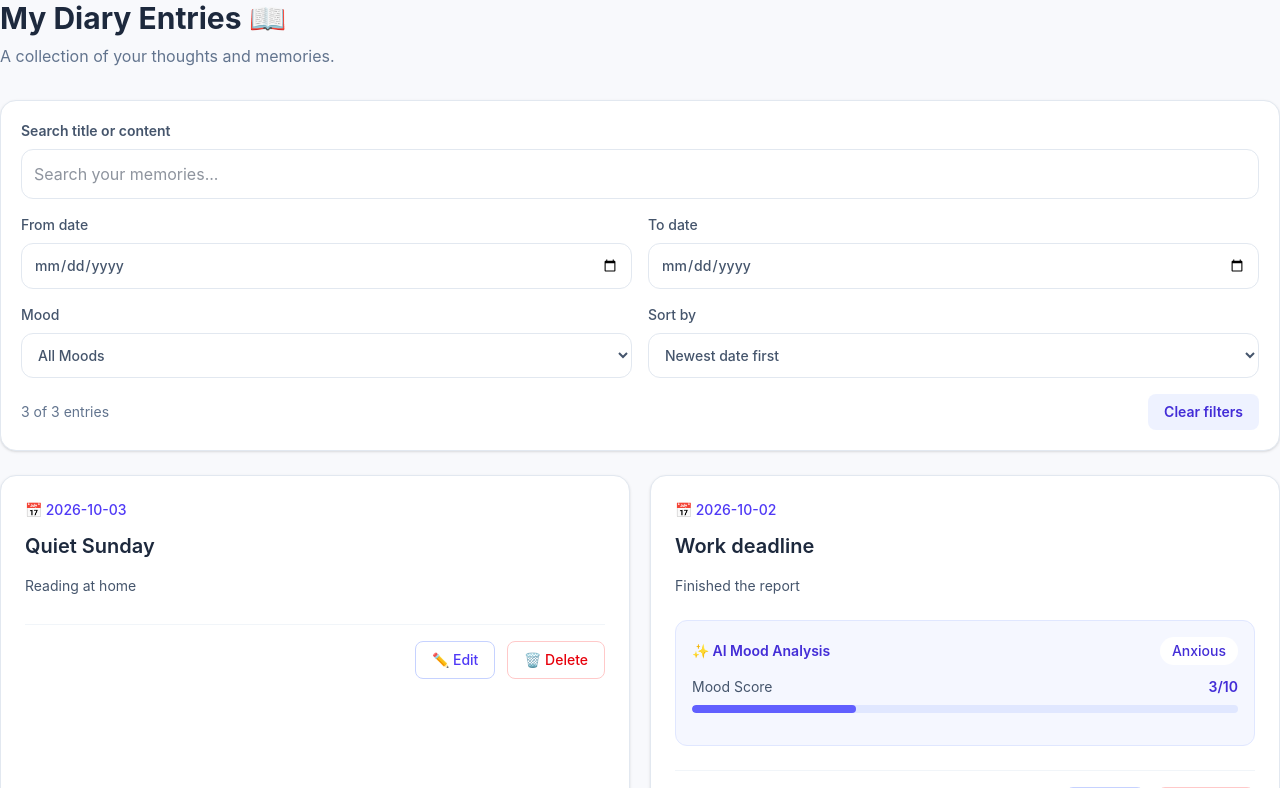
Test case: Diary search and filters › combines content search, mood and inclusive dates, then clears filters
This screenshot has width=1280, height=788.
Type "LAKE" into the search field labelled "Search title or content" at [640, 174], box [21, 149, 1259, 199]
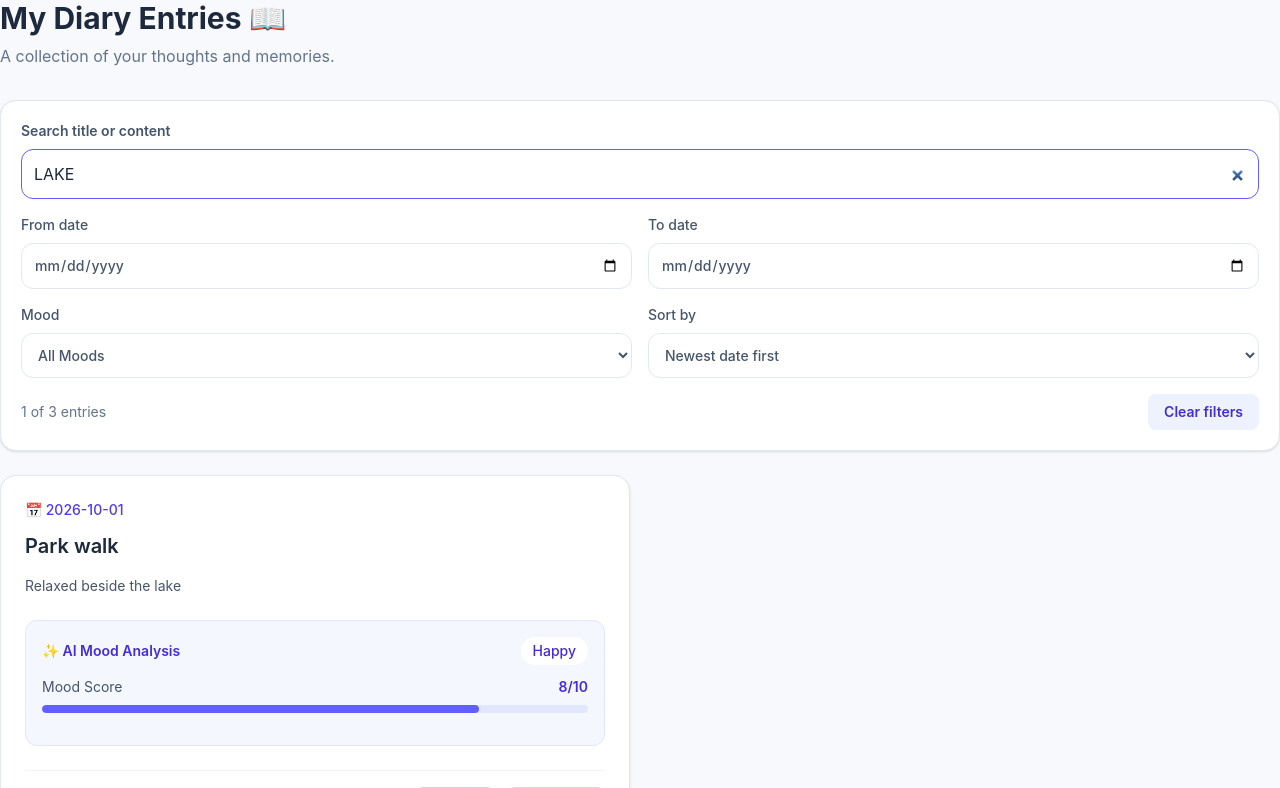
Select "happy" in the dropdown labelled "Mood" at [326, 356], box [21, 333, 632, 378]
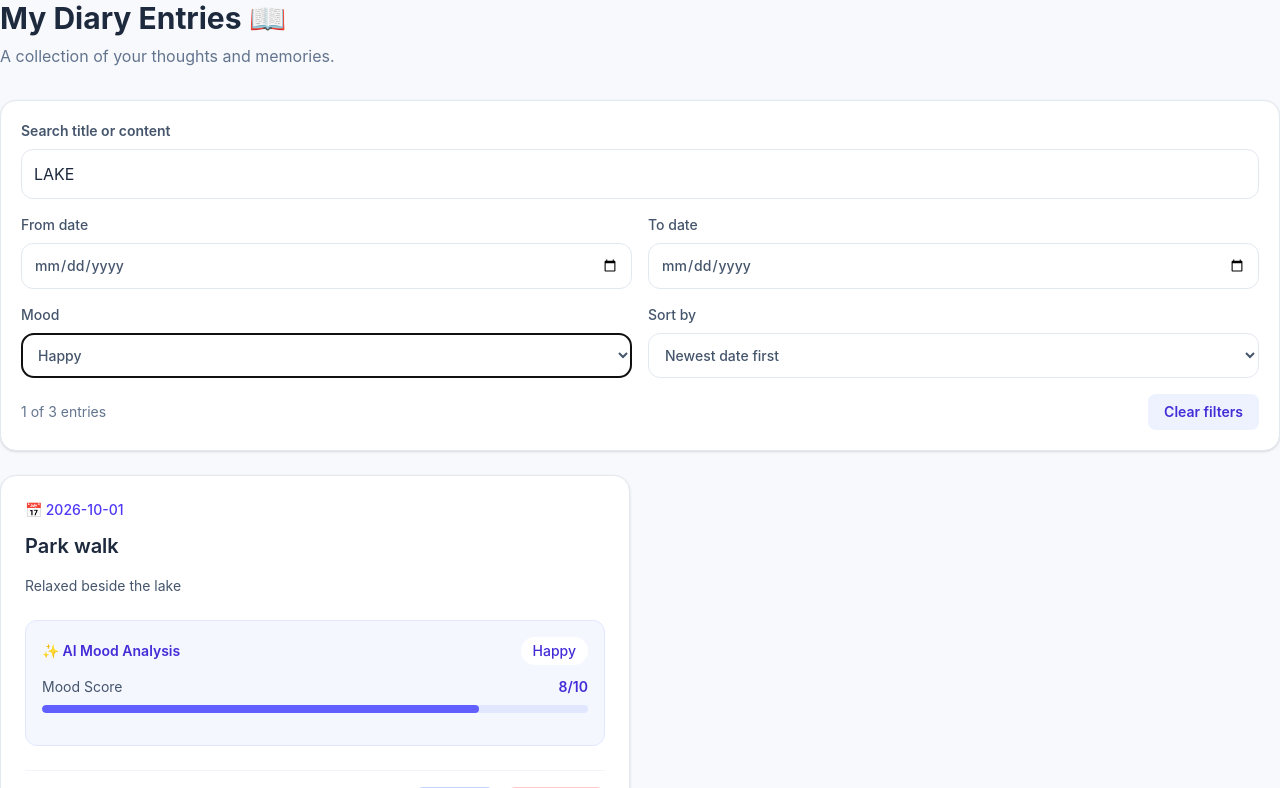
Type "2026-10-01" into the date field labelled "From date" at [326, 266], box [21, 243, 632, 289]
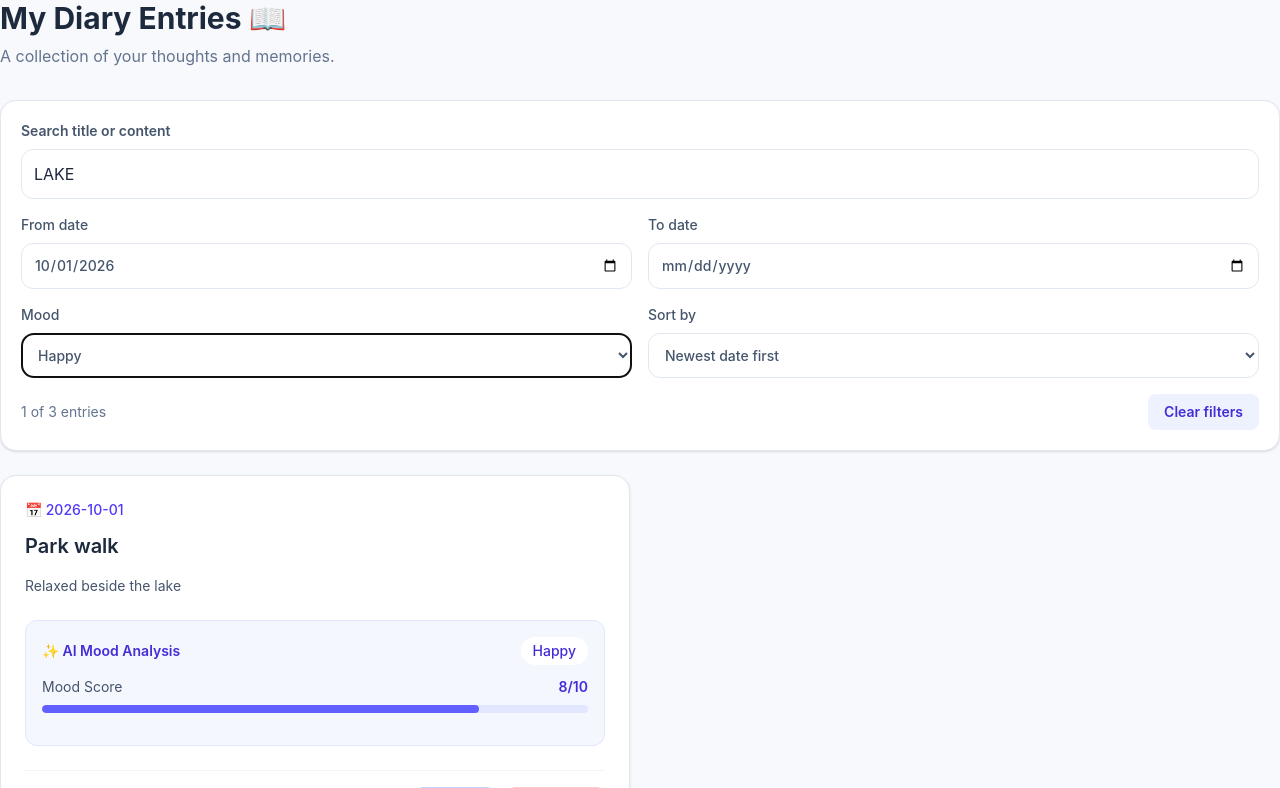
Type "2026-10-01" into the date field labelled "To date" at [954, 266], box [648, 243, 1259, 289]
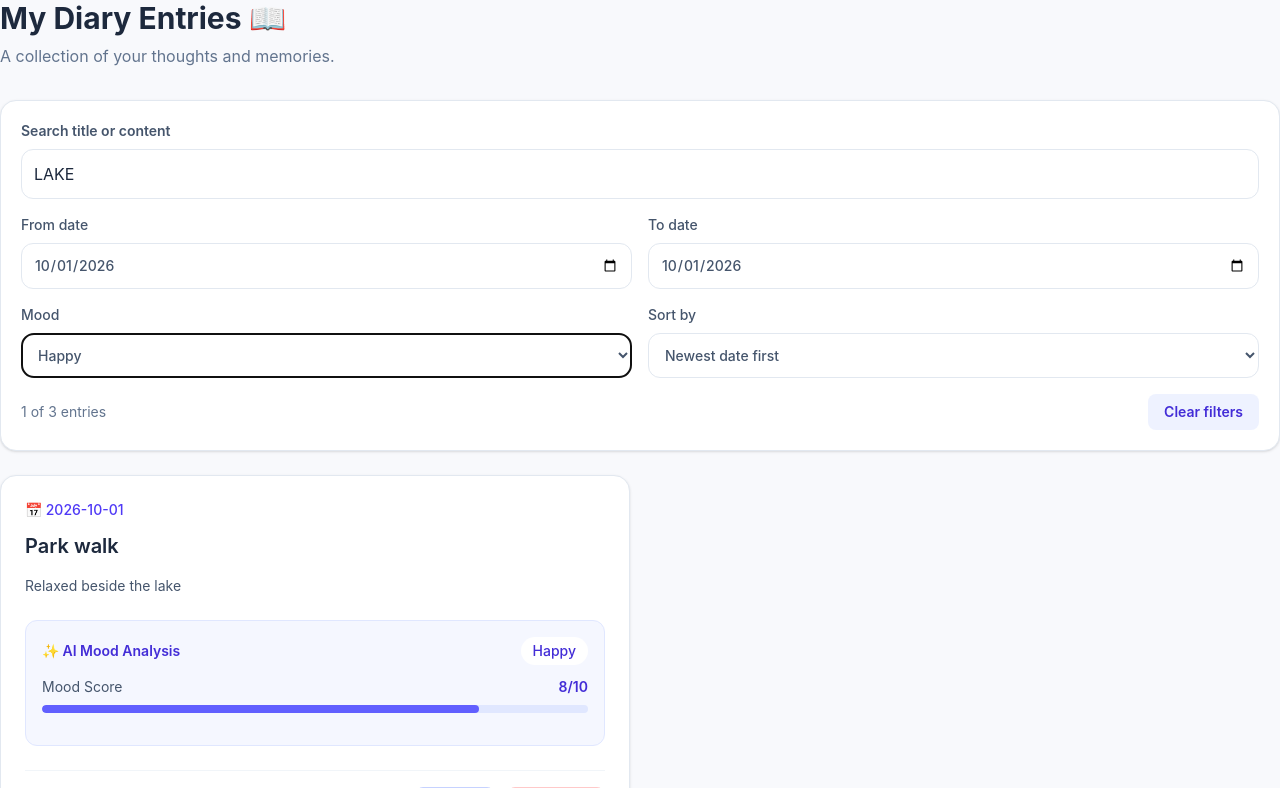
Expected: the heading "Work deadline" is not shown
Now the text "1 of 3 entries" is shown, box [21, 402, 106, 422]
Click the button "Clear filters" at [1204, 412], box [1148, 394, 1259, 430]
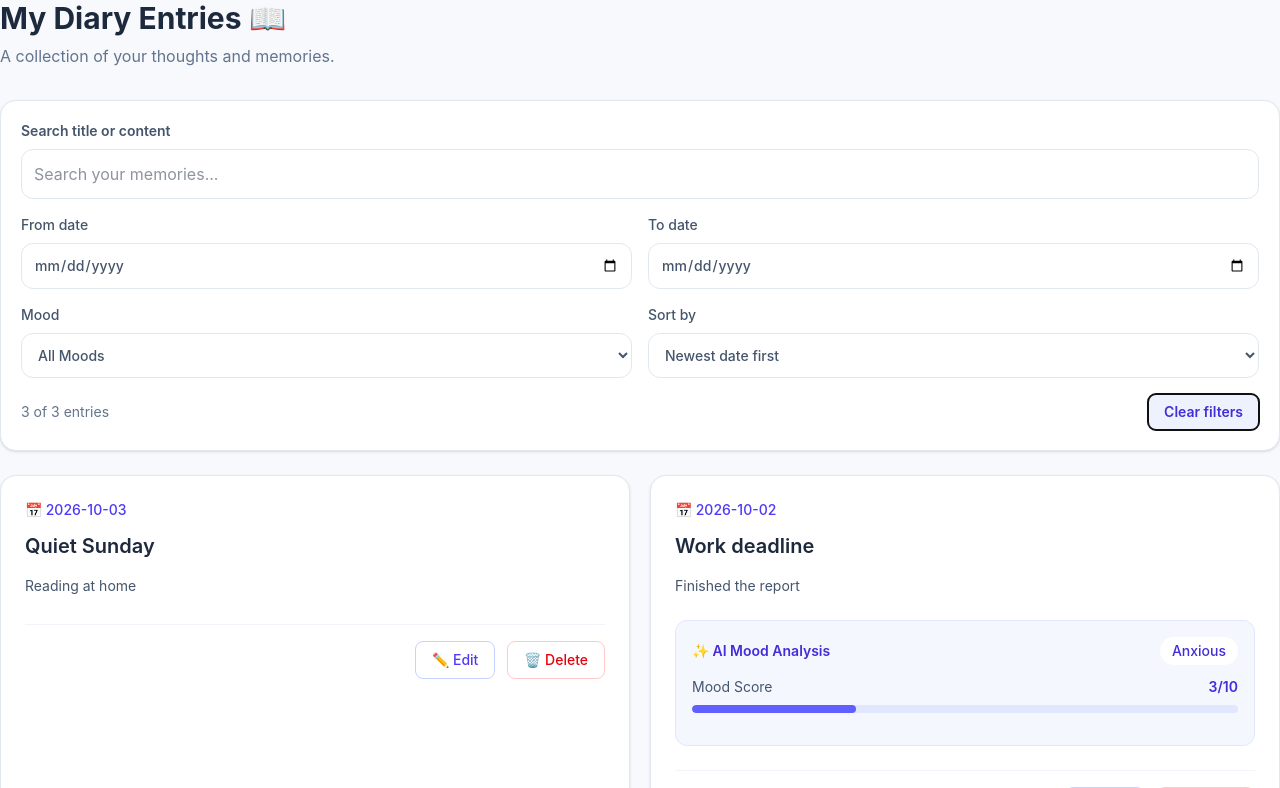
Now the text "3 of 3 entries" is shown, box [21, 402, 109, 422]
